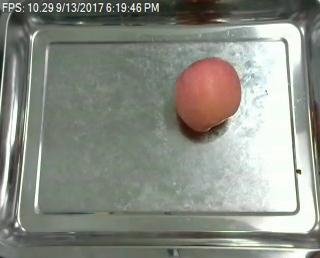apple: (175, 57, 242, 133)
